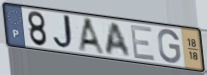8: (26, 11, 48, 48)
A: (77, 16, 108, 57), (104, 22, 132, 59)
E: (129, 24, 157, 63)
G: (157, 28, 182, 65)
J: (52, 14, 77, 51)
